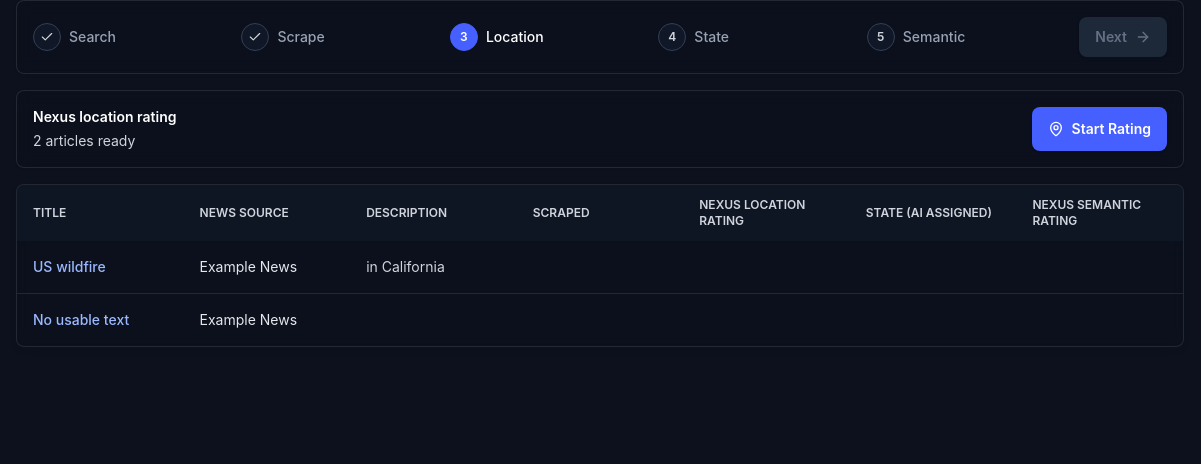
Test case: LocationBar › warns and keeps Next disabled when every article is skipped
Click the button "Start Rating" at (1099, 129), box [1032,107,1167,151]
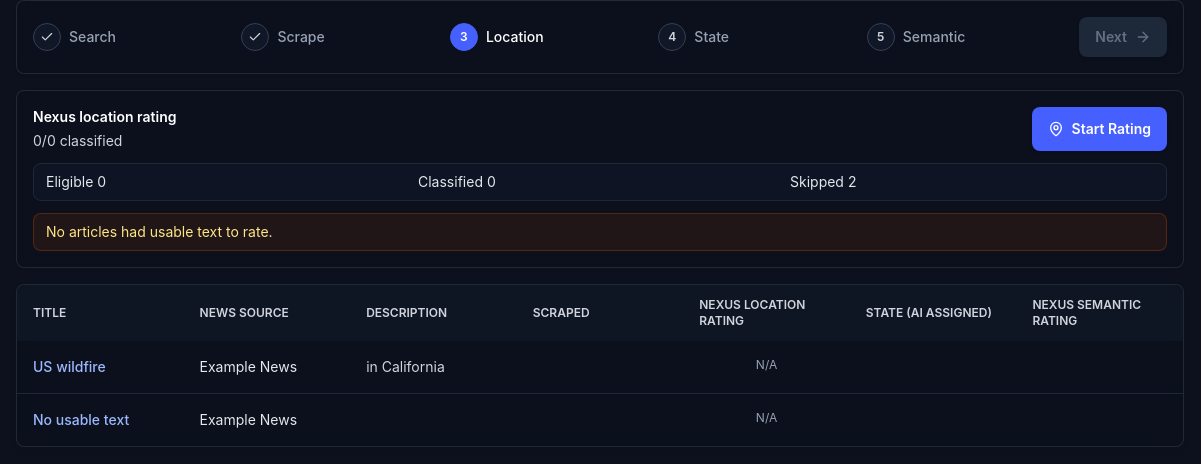
expect the button "Next" is disabled: met, box [1079,17,1167,57]
expect the message "No articles had usable text to rate." is shown: met, box [33,213,1167,251]
